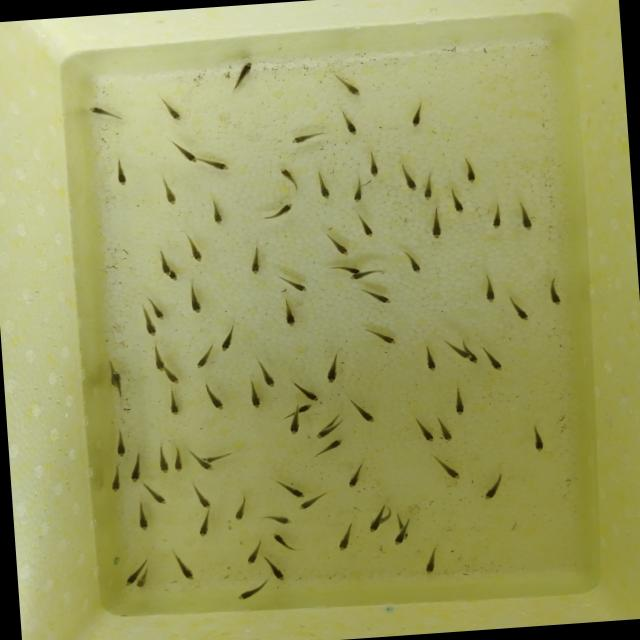fingerling: (320, 347, 348, 387), (342, 457, 374, 491), (152, 94, 186, 124), (359, 324, 401, 348), (476, 470, 506, 502), (342, 396, 376, 424), (179, 230, 207, 262), (202, 195, 228, 229), (200, 380, 226, 414), (230, 59, 257, 91), (282, 126, 330, 144), (242, 242, 266, 278), (330, 523, 357, 555), (84, 102, 127, 122), (357, 282, 390, 307), (172, 548, 196, 582), (418, 542, 442, 576), (397, 247, 424, 276), (262, 559, 292, 585), (352, 208, 377, 239), (543, 272, 563, 310), (105, 462, 128, 494), (129, 499, 152, 531), (292, 378, 320, 404), (413, 418, 438, 447), (310, 171, 334, 201), (183, 285, 207, 315), (334, 75, 365, 98), (198, 153, 230, 175), (157, 177, 181, 206), (142, 292, 166, 321), (270, 528, 299, 552), (243, 378, 264, 411), (228, 585, 266, 603), (216, 324, 238, 355), (504, 296, 530, 322), (141, 480, 169, 504), (514, 197, 533, 232), (484, 202, 506, 232), (241, 539, 263, 569), (435, 458, 460, 484), (480, 344, 504, 371), (258, 510, 294, 528), (312, 439, 346, 458), (193, 508, 214, 538), (324, 232, 349, 257), (275, 478, 306, 498), (404, 102, 426, 130), (114, 429, 136, 457), (153, 444, 172, 476), (445, 342, 475, 362), (434, 414, 454, 444), (277, 165, 299, 192), (419, 171, 438, 202), (278, 274, 307, 294), (171, 142, 197, 164), (279, 298, 298, 328), (191, 480, 210, 510), (362, 149, 382, 177), (230, 492, 250, 520), (110, 156, 128, 187), (168, 441, 186, 472), (266, 202, 296, 220), (190, 348, 214, 370), (134, 568, 158, 590), (362, 514, 386, 536), (400, 164, 418, 193), (341, 112, 361, 138), (346, 268, 386, 281), (186, 452, 212, 472), (450, 386, 466, 418), (165, 388, 182, 418), (529, 423, 546, 453), (126, 450, 143, 480), (203, 448, 234, 464), (421, 346, 440, 372), (448, 187, 466, 214), (428, 208, 444, 238), (138, 316, 158, 340), (258, 364, 278, 388), (482, 270, 496, 304), (349, 179, 368, 203), (324, 262, 360, 274), (155, 250, 172, 275), (296, 493, 324, 508), (463, 157, 477, 186), (285, 402, 317, 414), (287, 412, 304, 434), (124, 563, 140, 586), (150, 343, 162, 372), (388, 530, 408, 546), (316, 426, 344, 436), (163, 369, 180, 384), (116, 369, 124, 393), (165, 268, 178, 282)
